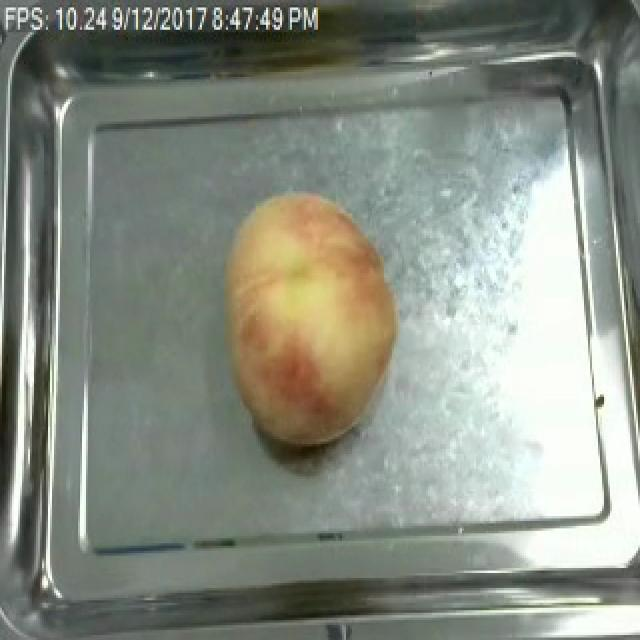Fruit: (214, 184, 412, 454)
